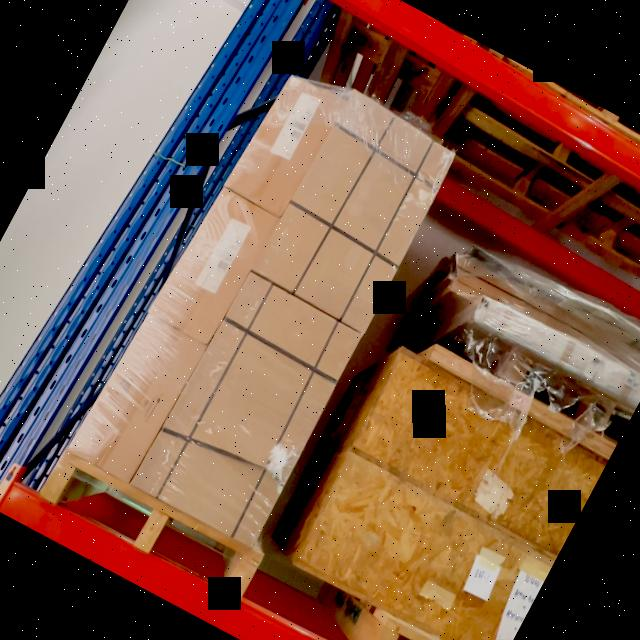box: (136, 274, 362, 545), (252, 92, 459, 332), (71, 316, 199, 479), (156, 190, 274, 342), (230, 73, 342, 215)
